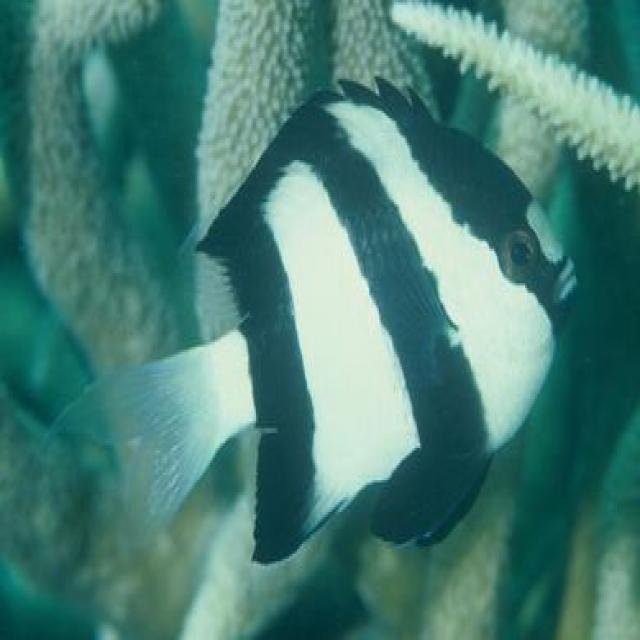Three_striped DasmselFish: (84, 74, 580, 566)
